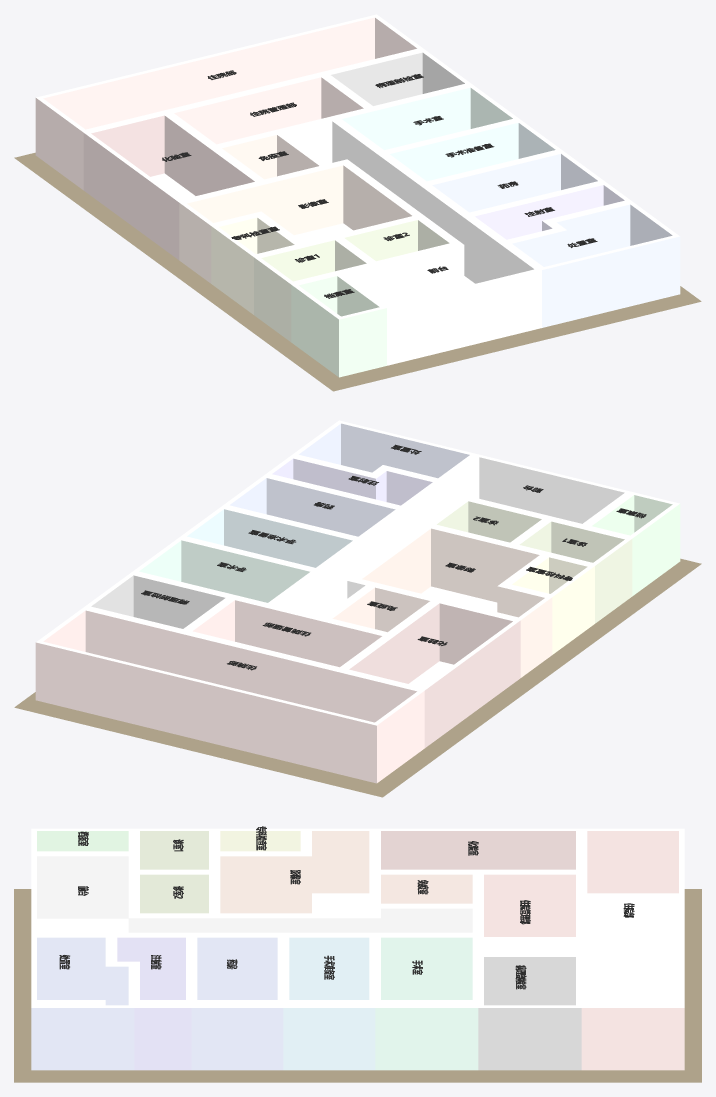
The model's file is overview.glb.
The picture shows the model from 3 angles, top to bottom: view 1: azimuth 30°, elevation 25°; view 2: azimuth 150°, elevation 25°; view 3: azimuth 270°, elevation 25°; orthographic projection. The views are drawn at different scales.
Visible parts, largest first — view 1: 前台, 住院部, 处置室, 化验室, 影像室, floor, 档案室, 住院管理部, 手术室, 药房, 手术准备室, 诊室1 (+5 smaller); view 2: 住院部, 前台, 化验室, 影像室, floor, 住院管理部, 手术室, 处置室, 药房, 手术准备室, 诊室1, 档案室 (+5 smaller); view 3: 住院部, 前台, floor, 手术室, 处置室, 药房, 手术准备室, 病理剖检室, 影像室, 化验室, 注射室, 住院管理部 (+5 smaller).
Boxes of the visible parts, x1,y1,x2,y2 form: 前台: [279, 118, 541, 365]; 住院部: [35, 14, 424, 190]; 处置室: [505, 201, 680, 327]; 化验室: [83, 112, 261, 259]; 影像室: [179, 162, 419, 283]; floor: [14, 152, 701, 391]; 档案室: [291, 273, 386, 377]; 住院管理部: [167, 74, 370, 147]; 手术室: [334, 84, 519, 153]; 药房: [425, 151, 605, 215]; 手术准备室: [383, 119, 562, 184]; 诊室1: [254, 237, 373, 341]; 住院部: [35, 607, 424, 783]; 前台: [270, 454, 631, 619]; 化验室: [342, 600, 520, 747]; 影像室: [355, 525, 552, 677]; floor: [14, 558, 701, 797]; 住院管理部: [185, 597, 388, 670]; 手术室: [132, 537, 317, 605]; 处置室: [291, 420, 476, 481]; 药房: [222, 475, 402, 539]; 手术准备室: [180, 506, 359, 570]; 诊室1: [512, 518, 632, 623]; 档案室: [585, 492, 680, 596]; 住院部: [581, 828, 684, 1070]; 前台: [31, 853, 478, 934]; floor: [14, 889, 701, 1082]; 手术室: [375, 935, 478, 1070]; 处置室: [31, 935, 134, 1070]; 药房: [191, 935, 283, 1070]; 手术准备室: [283, 935, 375, 1070]; 病理剖检室: [478, 954, 581, 1070]; 影像室: [214, 828, 375, 915]; 化验室: [375, 828, 581, 872]; 注射室: [111, 935, 191, 1070]; 住院管理部: [478, 872, 581, 954].
Size of the model in its own units: 20 by 3.37 by 30.
